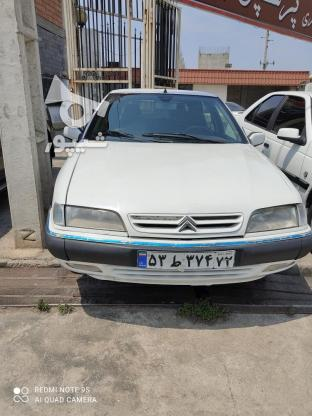car: (136, 249, 236, 269)
